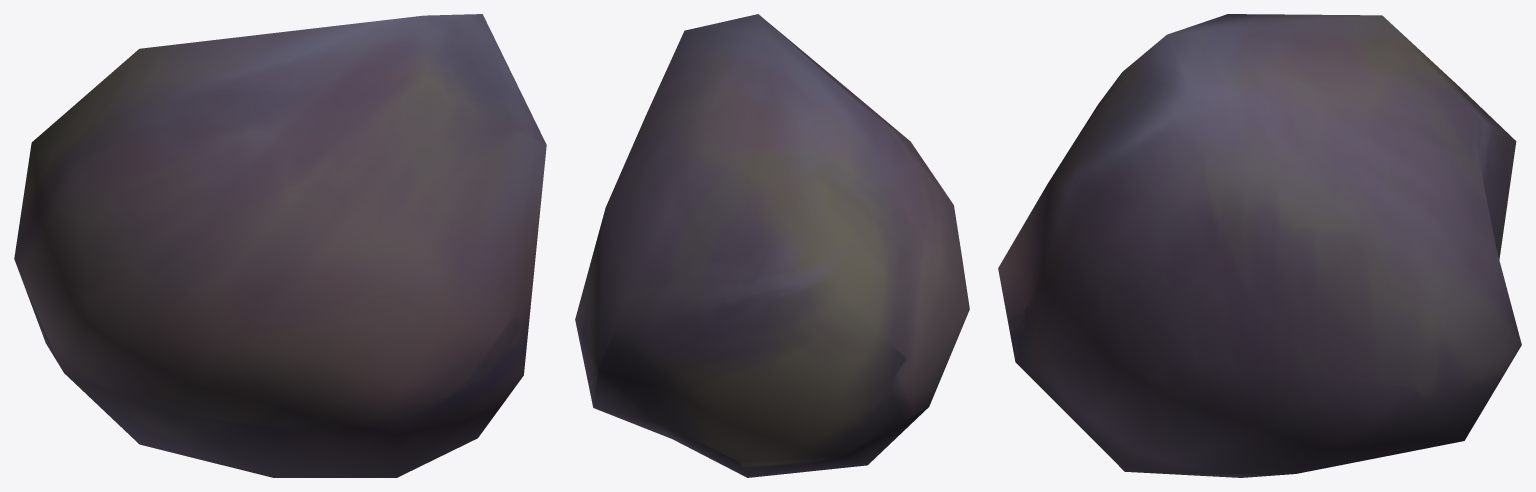
The model's file is Rock02Wip.fbx.
3 renders of one model, left to right at view 1: azimuth 30°, elevation 25°; view 2: azimuth 150°, elevation 25°; view 3: azimuth 270°, elevation 25°, orthographic. The views are drawn at different scales.
Visible parts, largest first — view 1: Icosphere; view 2: Icosphere; view 3: Icosphere.
Boxes of the visible parts, box(x1,y1,x2,y2) form: Icosphere: box(14, 14, 546, 477); Icosphere: box(575, 14, 969, 477); Icosphere: box(998, 14, 1521, 477).
Bounding box in the file's own units: 14.36 × 15.93 × 15.99.
Materials: 1 (1 with a texture image).
